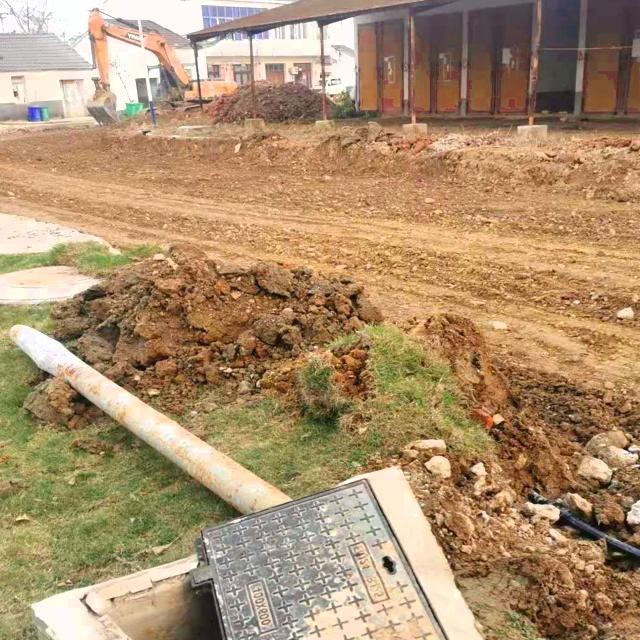circle: (62, 462, 527, 640)
